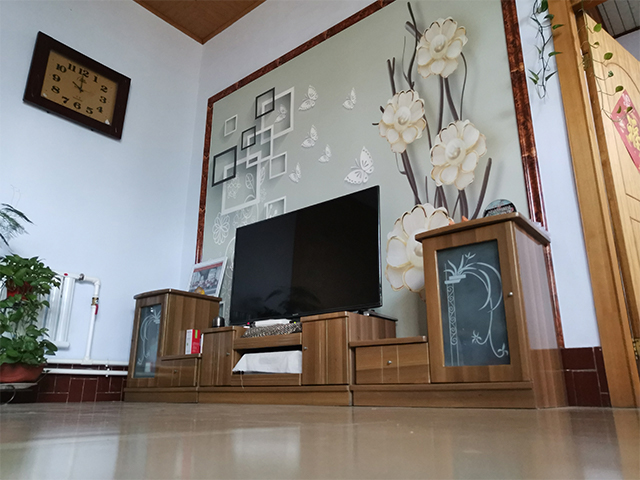cabinet: (120, 211, 570, 410)
